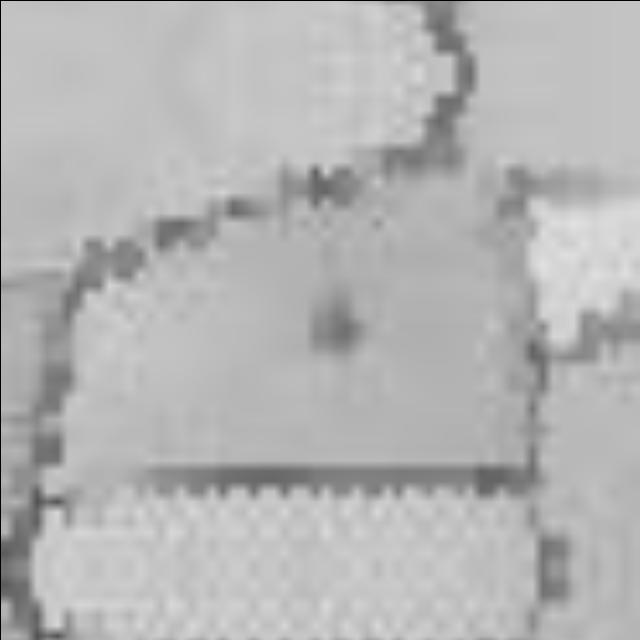good_void: (307, 294, 366, 359)
